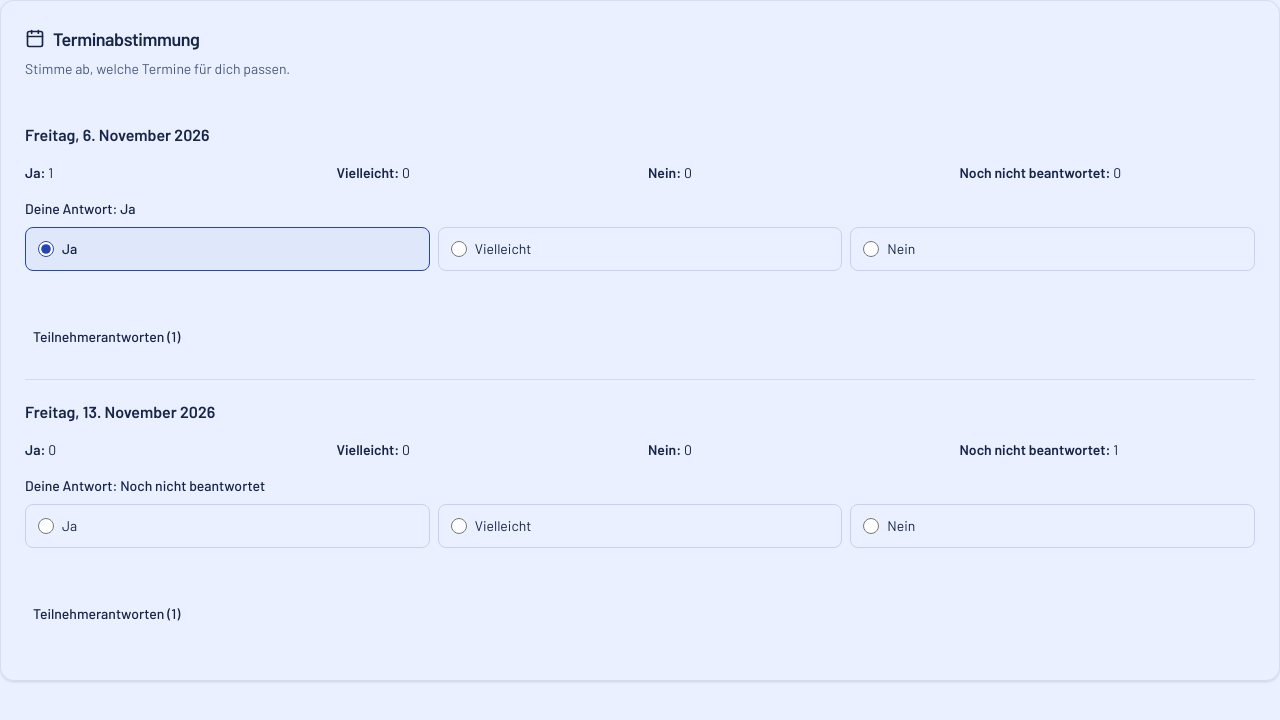
Test: DateVotingSection › refreshes FEAT-010 state after a 409 and does not change the saved answer
Click the 1st radio button labelled "Nein" at {"x": 871, "y": 249}, box x1=863 y1=241 x2=879 y2=257
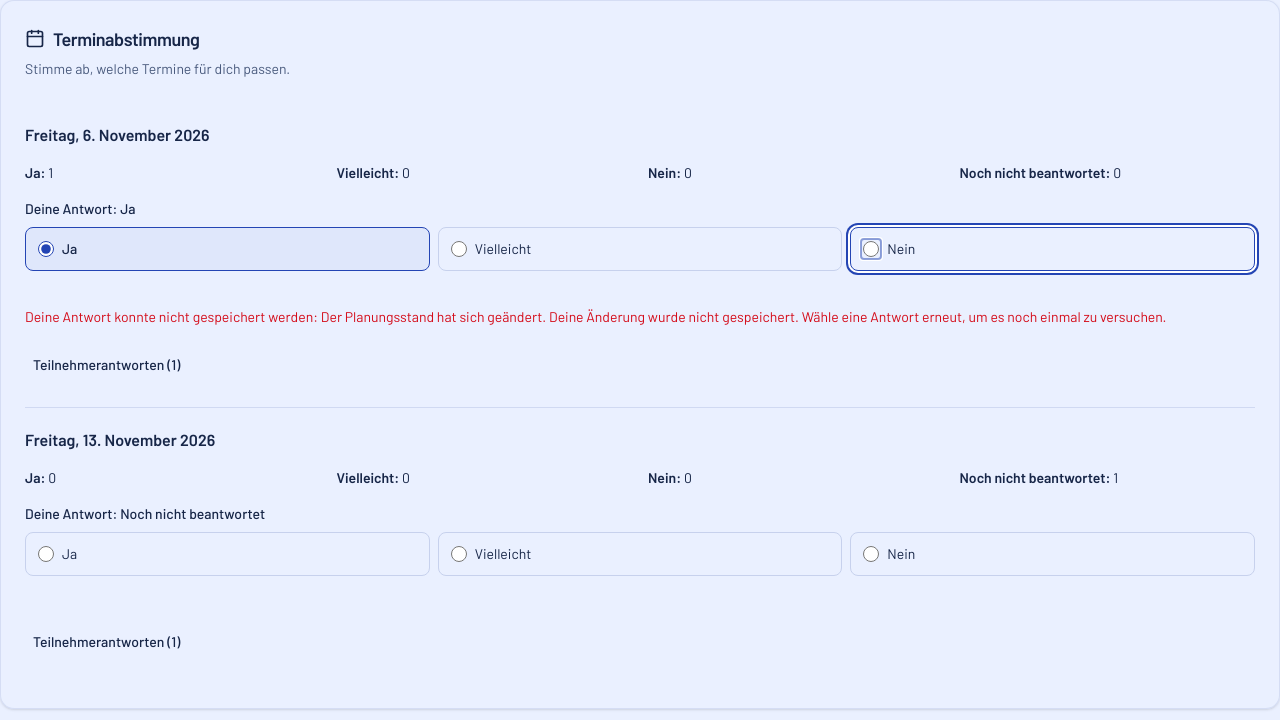
Expected: the radio button labelled "Ja" below "Freitag, 6. November 2026" is checked, x1=38 y1=241 x2=54 y2=257
Expected: the 2nd message shows "Der Planungsstand hat sich geändert", x1=25 y1=308 x2=1166 y2=325
